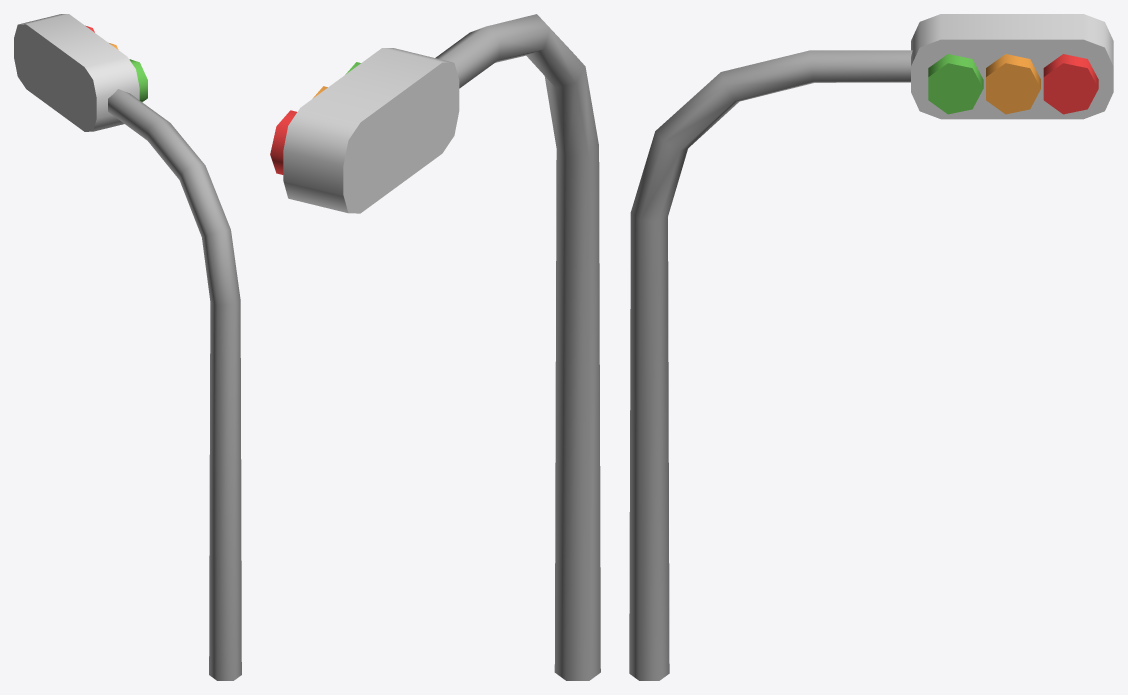
File: Town_Pole_TrafficLight.FBX
The picture shows the model from 3 angles, left to right: view 1: azimuth 30°, elevation 25°; view 2: azimuth 150°, elevation 25°; view 3: azimuth 270°, elevation 25°; orthographic projection. The views are drawn at different scales.
Visible parts, largest first — view 1: Town_Pole_TrafficLight; view 2: Town_Pole_TrafficLight; view 3: Town_Pole_TrafficLight.
Part boxes in pixels (left/top/right/bottom): Town_Pole_TrafficLight: left=14, top=14, right=241, bottom=680; Town_Pole_TrafficLight: left=270, top=14, right=600, bottom=680; Town_Pole_TrafficLight: left=629, top=14, right=1113, bottom=680.
Bounding box in the file's own units: 46.06 × 398 × 270.
